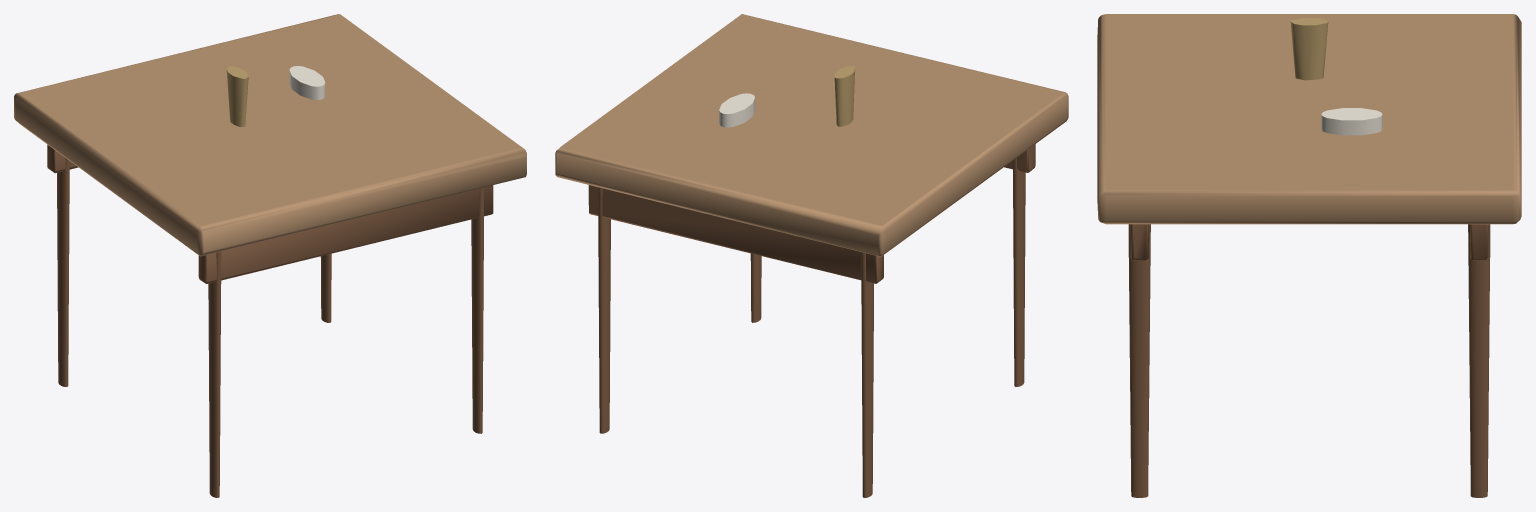
Rendered from table-4-0.lod.glb.
The picture shows the model from 3 angles, left to right: view 1: azimuth 30°, elevation 25°; view 2: azimuth 150°, elevation 25°; view 3: azimuth 270°, elevation 25°; orthographic projection. The views are drawn at different scales.
Parts seen in each view (by area): view 1: upholstery, part (×3); view 2: upholstery, part (×3); view 3: upholstery, part (×3).
Part boxes in pixels (bbox=[...]): upholstery: bbox=[14, 14, 526, 256]; part (×3): bbox=[47, 66, 493, 497]; upholstery: bbox=[555, 14, 1068, 256]; part (×3): bbox=[588, 66, 1035, 497]; upholstery: bbox=[1097, 14, 1521, 224]; part (×3): bbox=[1128, 18, 1490, 497].
Bounding box in the file's own units: 1 × 1 × 1.
